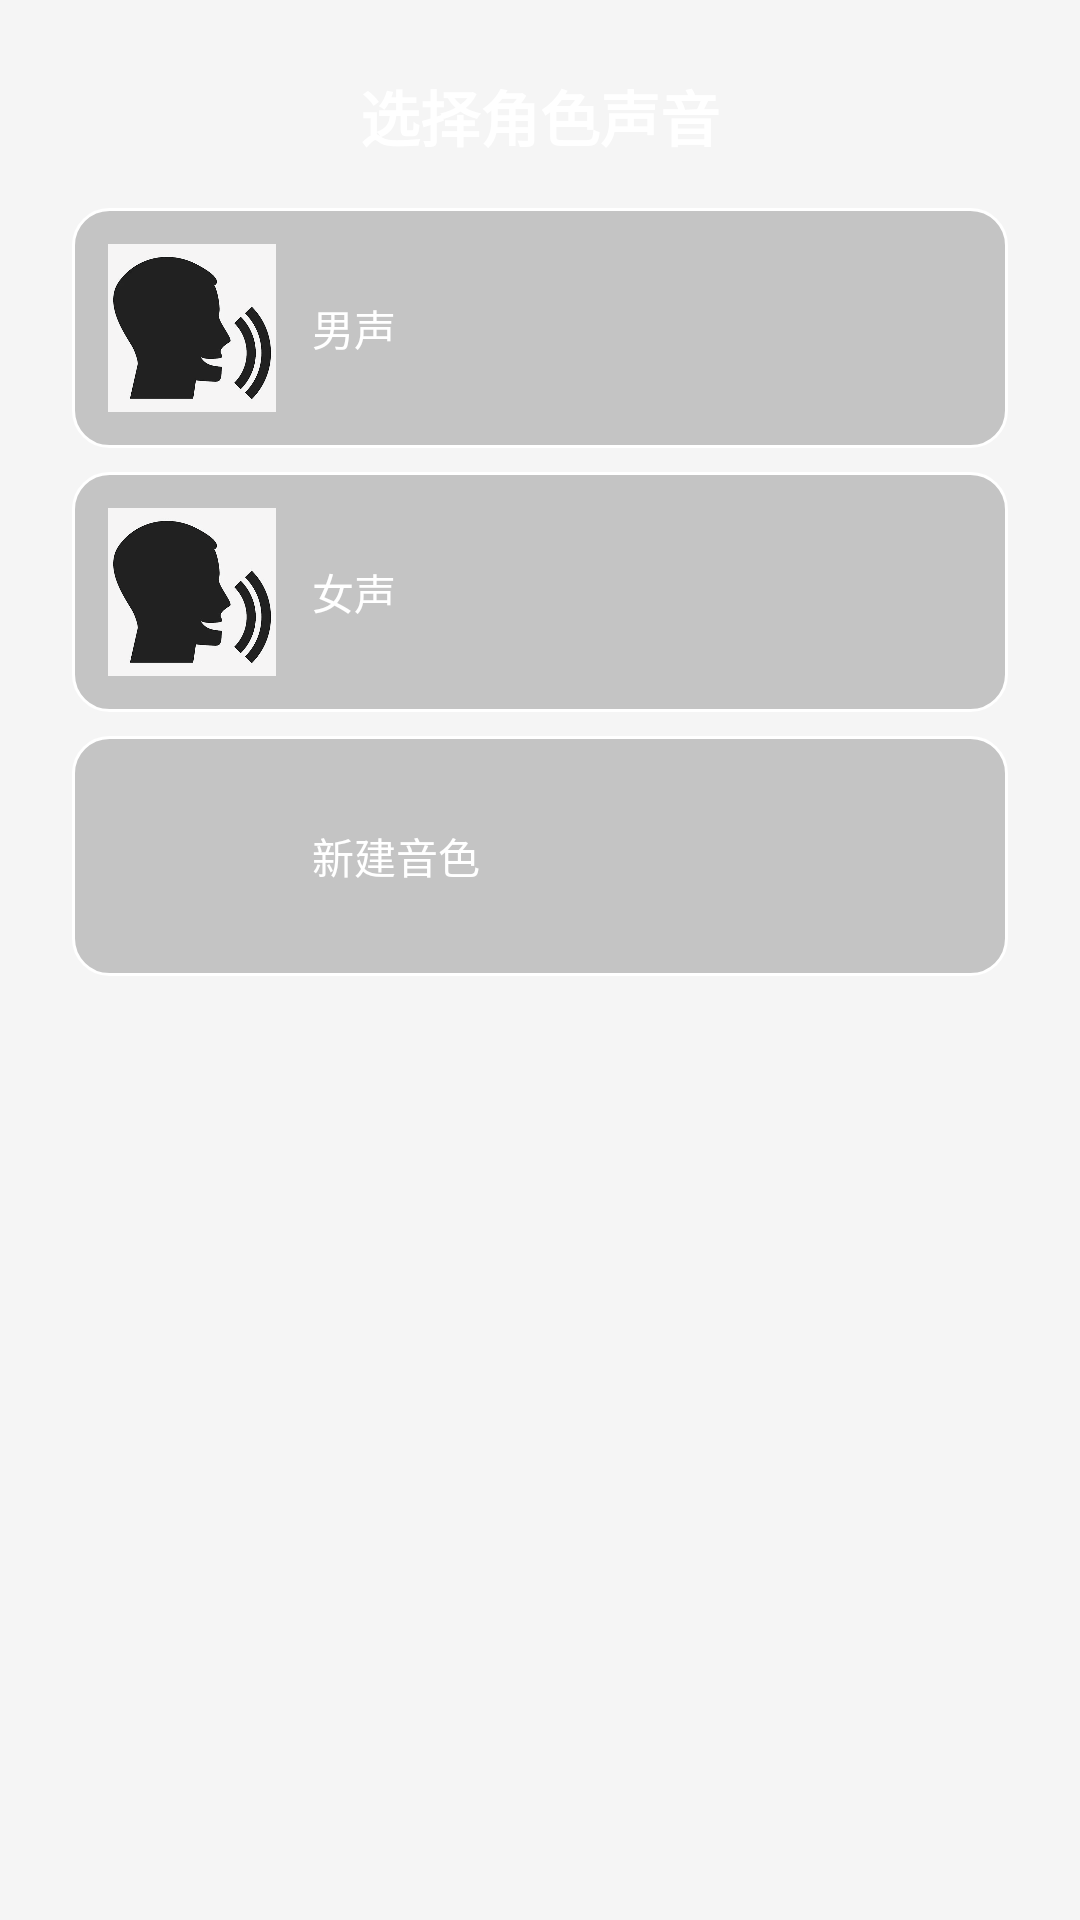

Screen size 1080×1920. Icon name, then its box in pixels as region(x1, y1, x2, y2):
voice: region(108, 244, 276, 412), region(108, 508, 276, 676)
